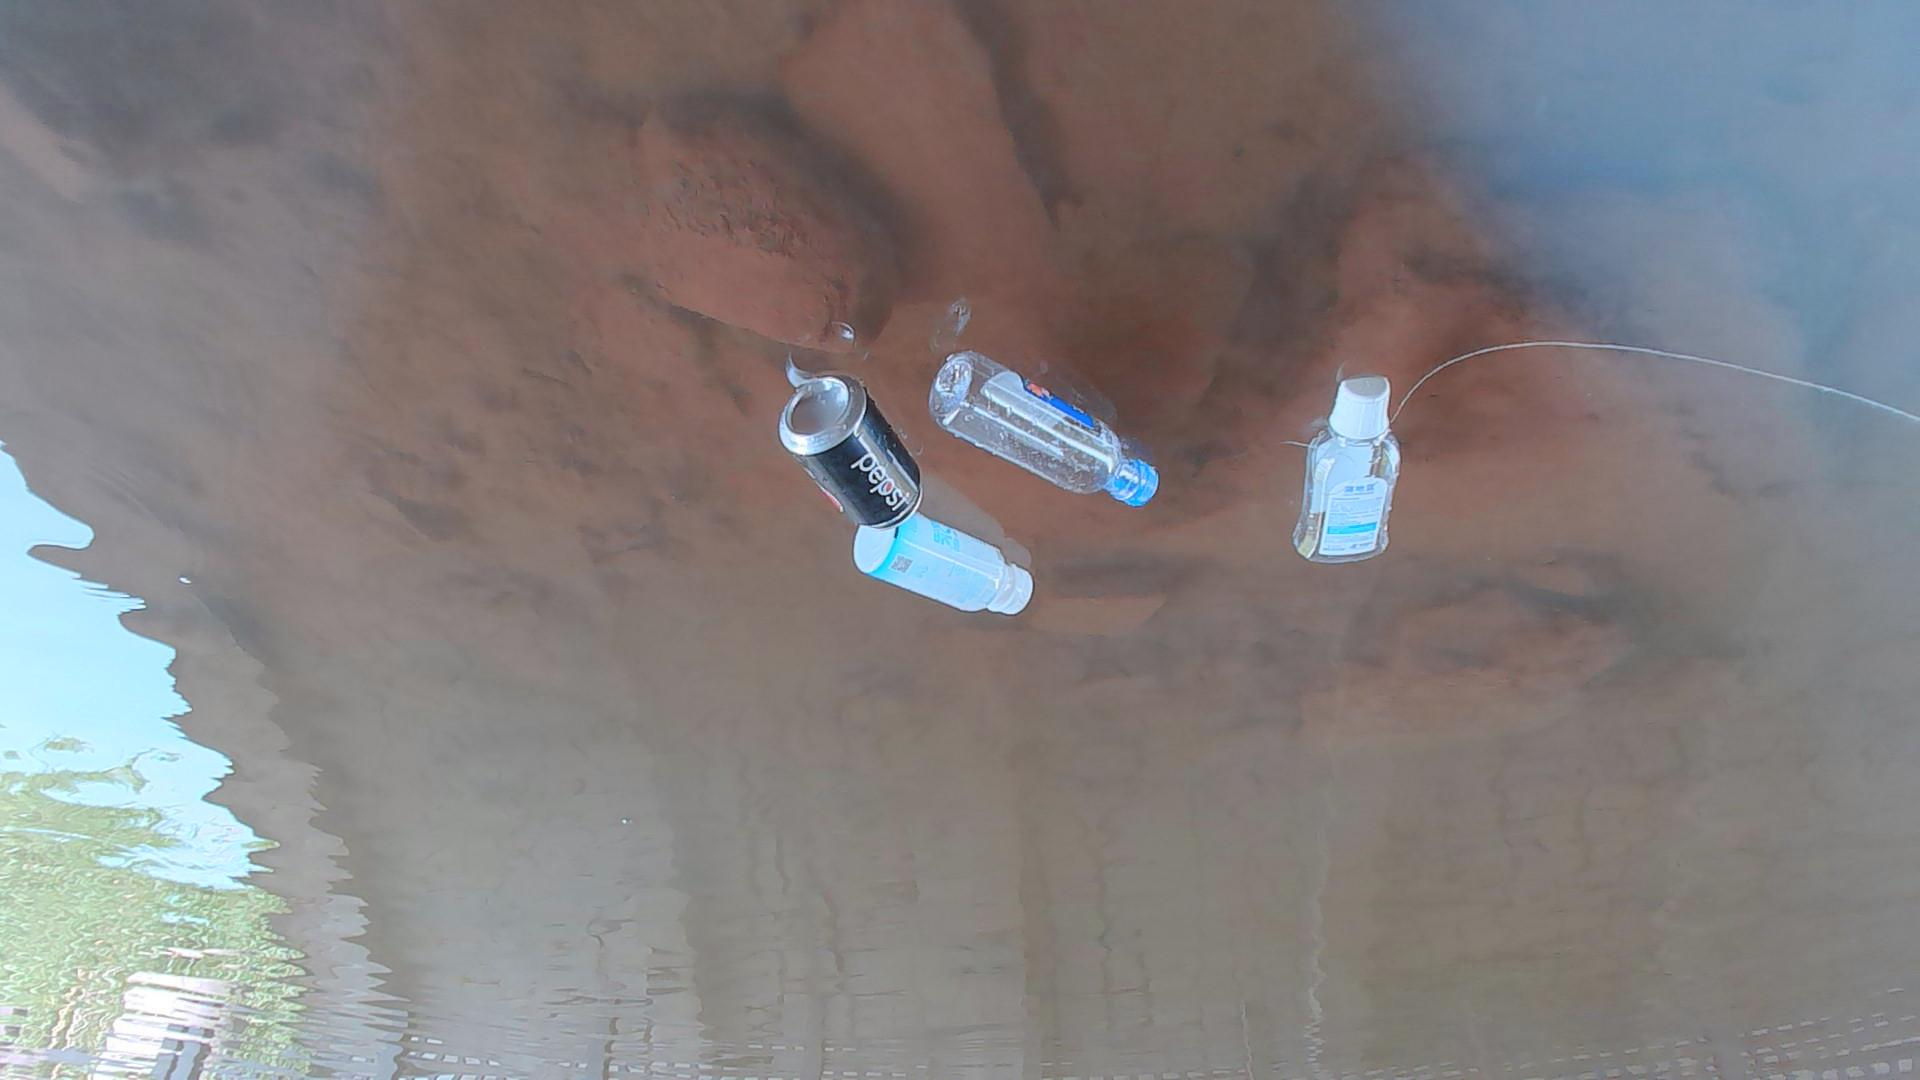Metal: (775, 375, 932, 531)
Plastic: (934, 343, 1174, 512), (1291, 373, 1406, 571), (847, 516, 1038, 626)
